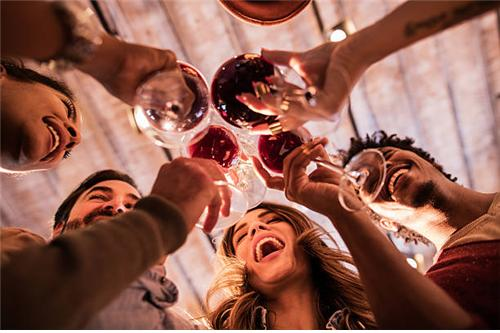alcohol: (256, 124, 384, 213), (212, 51, 352, 130), (177, 125, 246, 235), (136, 61, 209, 147)
